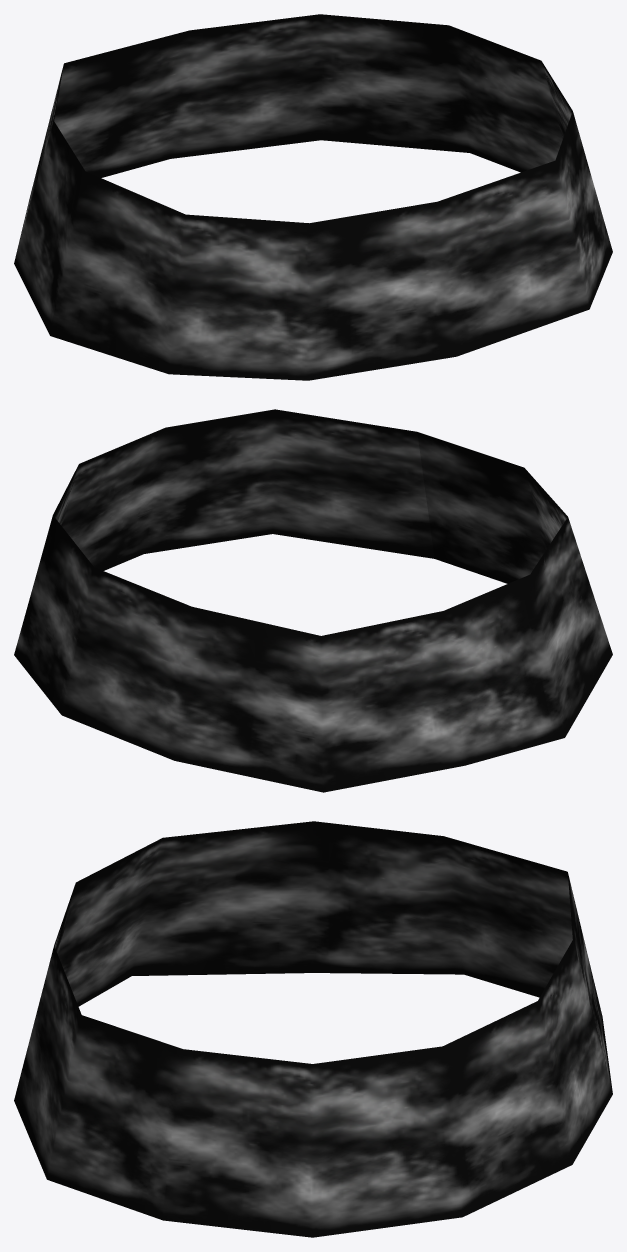
3 renders of one model, top to bottom at view 1: azimuth 30°, elevation 25°; view 2: azimuth 150°, elevation 25°; view 3: azimuth 270°, elevation 25°, orthographic. The views are drawn at different scales.
Visible parts, largest first — view 1: wu; view 2: wu; view 3: wu.
Boxes of the visible parts, x1,y1,x2,y2 form: wu: (14, 14, 612, 380); wu: (14, 409, 612, 792); wu: (14, 821, 612, 1237).
Bounding box in the file's own units: 3150 × 893 × 2845.
